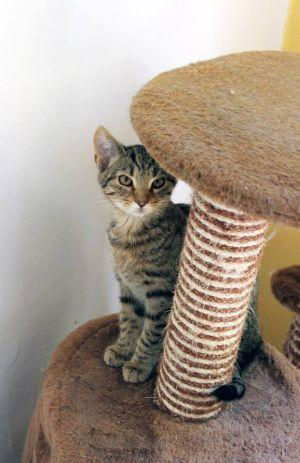bengal: (82, 120, 194, 227)
